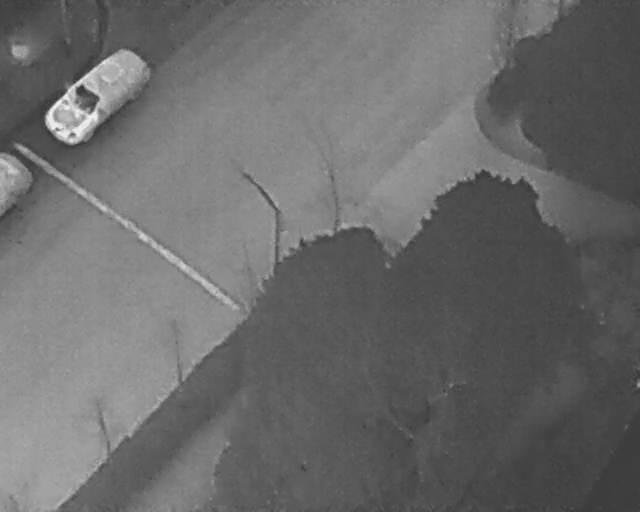Car: (38, 38, 158, 155)
